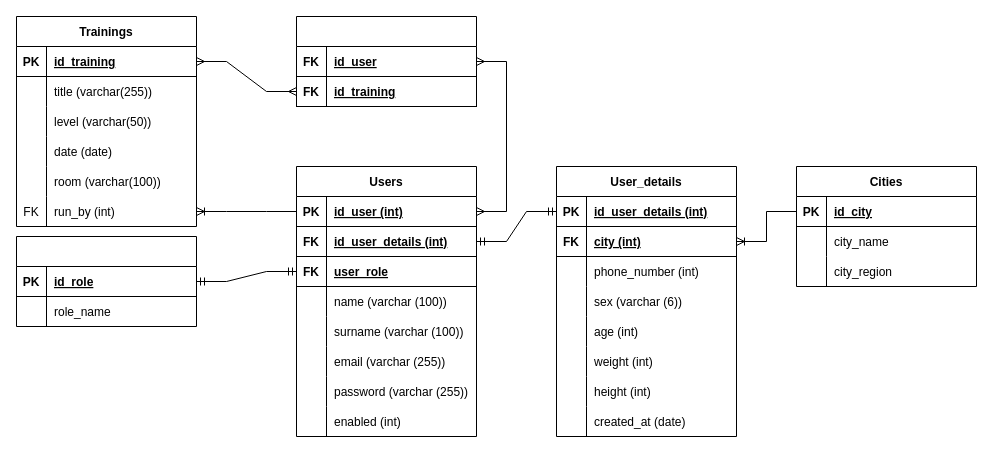
Some shapes in this 993 by 453 pixel diagram are drawn without their labels. Here are the shapes that lost their labels. From the top down, the box of each, then its label:
(296, 16, 476, 106): User_trainings
(16, 236, 196, 326): User_roles
